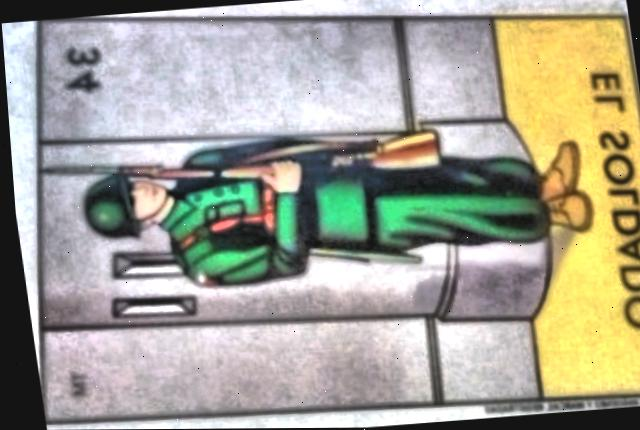El Soldado: (37, 15, 640, 421)
